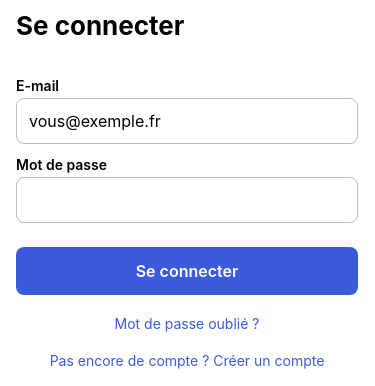
Inscription (mobile) › revient à la connexion depuis l’inscription
Click the link with test id "to-register".
click(187, 360)  # box 50,352 -> 324,368
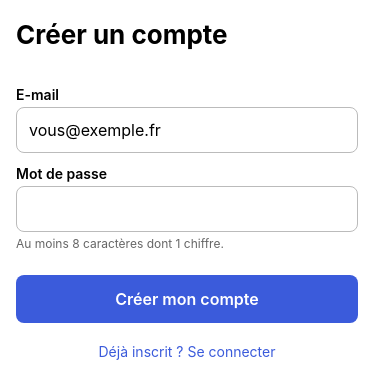
Click the link with test id "to-login".
click(187, 351)  # box 98,342 -> 276,360
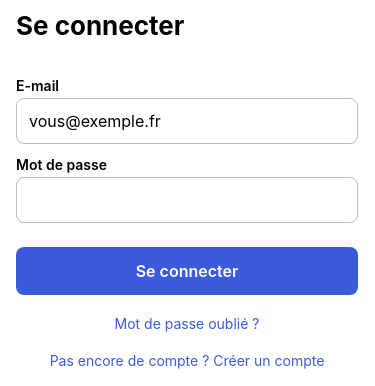
Expected: the button with test id "login-submit" is shown, 16,246 -> 358,294
